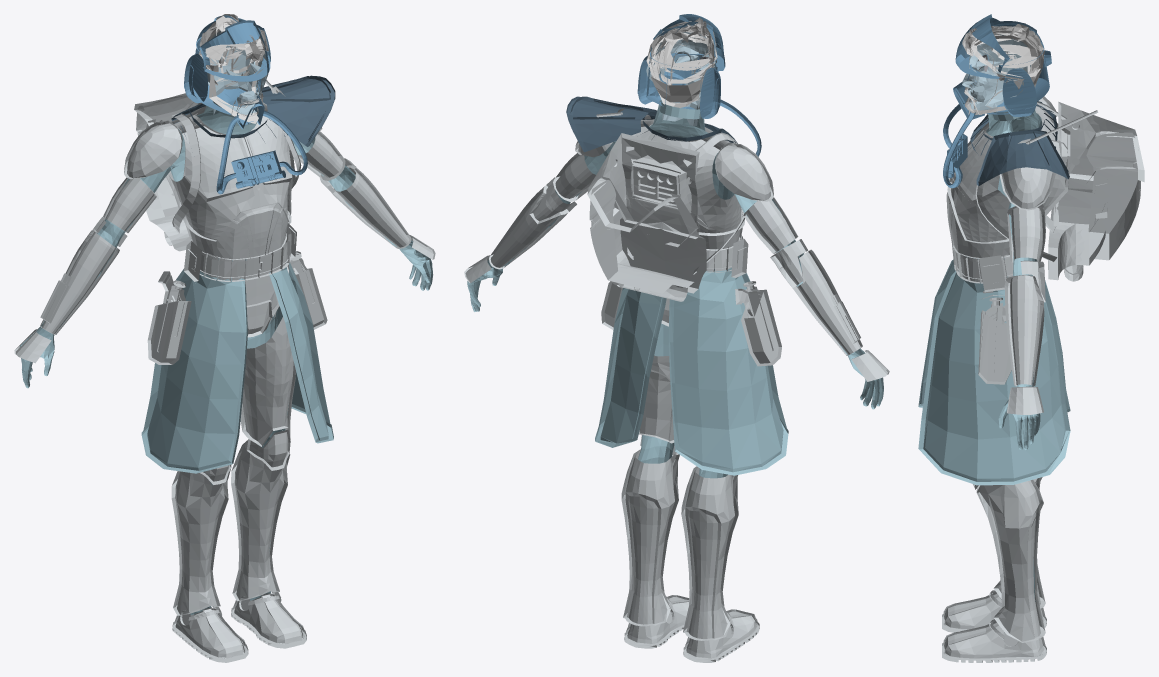
The model's file is 821_pilot.glb.
3 views of the same model, side by side, from view 1: azimuth 30°, elevation 25°; view 2: azimuth 150°, elevation 25°; view 3: azimuth 270°, elevation 25° (orthographic).
Visible parts, largest first — view 1: bg_01_armor__option_00_clone_armor.smd__mesh_00, bg_06_kama__option_01_kama.smd__mesh_00, bg_02_helmet__option_00_pilot_helmet.smd__mesh_00, bg_00_body__option_00_body.smd__mesh_00, bg_08_Backpack__option_01_backpack.smd__mesh_00, bg_07_holsters__option_01_holsters.smd__mesh_00, bg_05_pauldron__option_01_pauldron.smd__mesh_00, bg_02_helmet__option_01_new_head.smd__mesh_00, bg_04_Facial Hair__option_05_fhair_beard.smd__mesh_00; view 2: bg_01_armor__option_00_clone_armor.smd__mesh_00, bg_06_kama__option_01_kama.smd__mesh_00, bg_08_Backpack__option_01_backpack.smd__mesh_00, bg_00_body__option_00_body.smd__mesh_00, bg_05_pauldron__option_01_pauldron.smd__mesh_00, bg_02_helmet__option_00_pilot_helmet.smd__mesh_00, bg_07_holsters__option_01_holsters.smd__mesh_00, bg_02_helmet__option_01_new_head.smd__mesh_00, bg_03_Hair__option_04_hair4_reference.smd__mesh_00, bg_03_Hair__option_15_hair_slick.smd__mesh_00; view 3: bg_01_armor__option_00_clone_armor.smd__mesh_00, bg_06_kama__option_01_kama.smd__mesh_00, bg_08_Backpack__option_01_backpack.smd__mesh_00, bg_02_helmet__option_00_pilot_helmet.smd__mesh_00, bg_05_pauldron__option_01_pauldron.smd__mesh_00, bg_00_body__option_00_body.smd__mesh_00, bg_07_holsters__option_01_holsters.smd__mesh_00, bg_02_helmet__option_01_new_head.smd__mesh_00, bg_03_Hair__option_15_hair_slick.smd__mesh_00, bg_03_Hair__option_10_clone_hair_party.smd__mesh_00.
Part boxes in pixels (bbox=[...]): bg_01_armor__option_00_clone_armor.smd__mesh_00: bbox=[14, 103, 435, 662]; bg_06_kama__option_01_kama.smd__mesh_00: bbox=[141, 263, 333, 473]; bg_02_helmet__option_00_pilot_helmet.smd__mesh_00: bbox=[184, 15, 307, 194]; bg_00_body__option_00_body.smd__mesh_00: bbox=[19, 101, 433, 614]; bg_08_Backpack__option_01_backpack.smd__mesh_00: bbox=[134, 93, 301, 251]; bg_07_holsters__option_01_holsters.smd__mesh_00: bbox=[147, 251, 327, 364]; bg_05_pauldron__option_01_pauldron.smd__mesh_00: bbox=[171, 75, 335, 146]; bg_02_helmet__option_01_new_head.smd__mesh_00: bbox=[205, 31, 268, 114]; bg_04_Facial Hair__option_05_fhair_beard.smd__mesh_00: bbox=[209, 58, 263, 123]; bg_01_armor__option_00_clone_armor.smd__mesh_00: bbox=[464, 119, 889, 662]; bg_06_kama__option_01_kama.smd__mesh_00: bbox=[595, 267, 788, 475]; bg_08_Backpack__option_01_backpack.smd__mesh_00: bbox=[587, 114, 744, 301]; bg_00_body__option_00_body.smd__mesh_00: bbox=[467, 100, 883, 478]; bg_05_pauldron__option_01_pauldron.smd__mesh_00: bbox=[566, 96, 737, 152]; bg_02_helmet__option_00_pilot_helmet.smd__mesh_00: bbox=[637, 14, 761, 156]; bg_07_holsters__option_01_holsters.smd__mesh_00: bbox=[601, 281, 781, 366]; bg_02_helmet__option_01_new_head.smd__mesh_00: bbox=[646, 31, 717, 126]; bg_03_Hair__option_04_hair4_reference.smd__mesh_00: bbox=[650, 30, 717, 102]; bg_03_Hair__option_15_hair_slick.smd__mesh_00: bbox=[652, 27, 711, 70]; bg_01_armor__option_00_clone_armor.smd__mesh_00: bbox=[942, 96, 1070, 662]; bg_06_kama__option_01_kama.smd__mesh_00: bbox=[918, 259, 1070, 485]; bg_08_Backpack__option_01_backpack.smd__mesh_00: bbox=[975, 101, 1144, 281]; bg_02_helmet__option_00_pilot_helmet.smd__mesh_00: bbox=[943, 14, 1051, 188]; bg_05_pauldron__option_01_pauldron.smd__mesh_00: bbox=[970, 101, 1069, 185]; bg_00_body__option_00_body.smd__mesh_00: bbox=[965, 110, 1042, 632]; bg_07_holsters__option_01_holsters.smd__mesh_00: bbox=[978, 297, 1011, 384]; bg_02_helmet__option_01_new_head.smd__mesh_00: bbox=[962, 32, 1031, 116]; bg_03_Hair__option_15_hair_slick.smd__mesh_00: bbox=[983, 34, 1037, 68]; bg_03_Hair__option_10_clone_hair_party.smd__mesh_00: bbox=[972, 26, 1043, 81].
Size of the model in its own units: 52.96 by 74.67 by 24.65.
